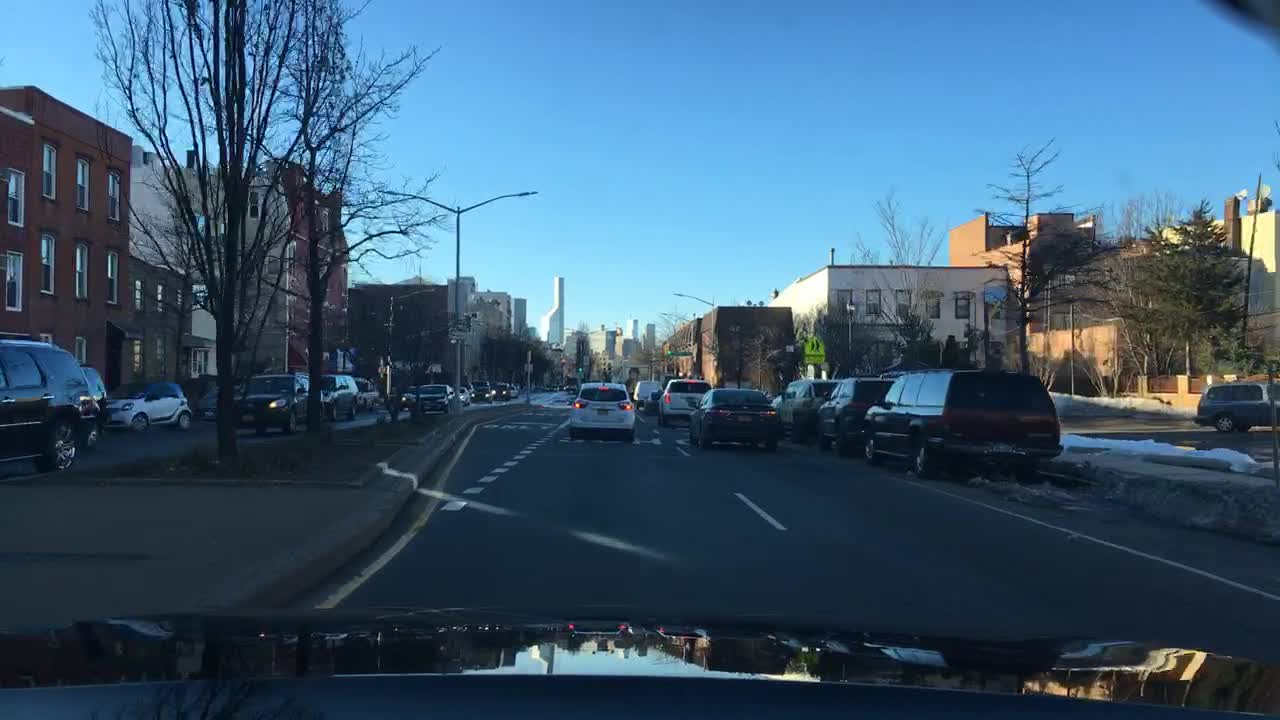car: (868, 368, 1060, 476), (2, 331, 97, 480), (808, 376, 890, 452), (690, 386, 784, 451), (229, 371, 325, 434), (103, 376, 192, 433), (564, 382, 638, 443), (1194, 380, 1277, 433), (767, 373, 831, 437), (659, 377, 710, 426), (314, 371, 361, 420), (83, 360, 105, 448), (415, 383, 455, 416), (197, 382, 226, 420), (355, 374, 380, 408), (633, 379, 659, 399), (647, 386, 664, 414), (394, 388, 417, 405), (469, 386, 492, 400), (469, 377, 490, 390), (454, 386, 469, 403), (492, 382, 507, 397), (509, 382, 521, 397), (564, 383, 576, 396)
